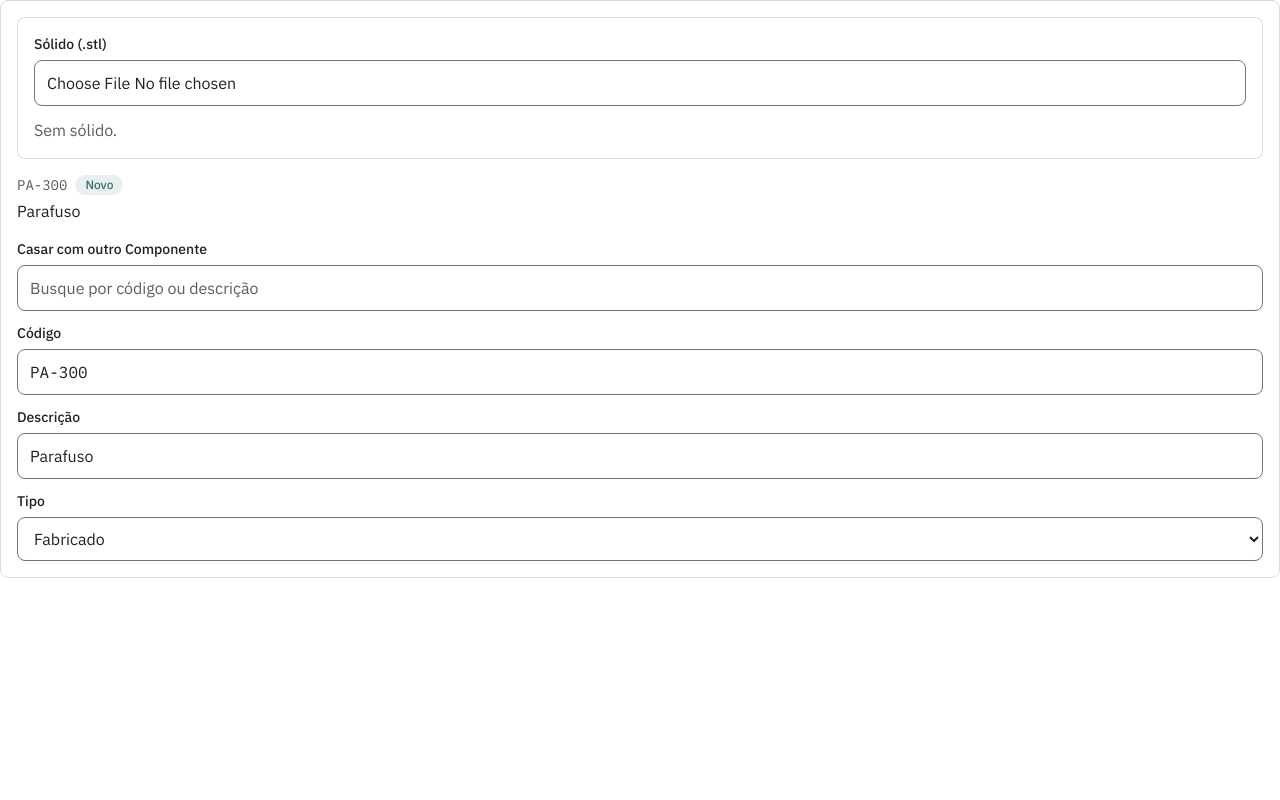
PainelDoComponenteDaImportacao › recusa local do casamento › some na próxima ação: digitar num campo do Componente novo
Focus the dropdown labelled "Casar com outro Componente": {"x": 640, "y": 288} [17,265,1263,311]
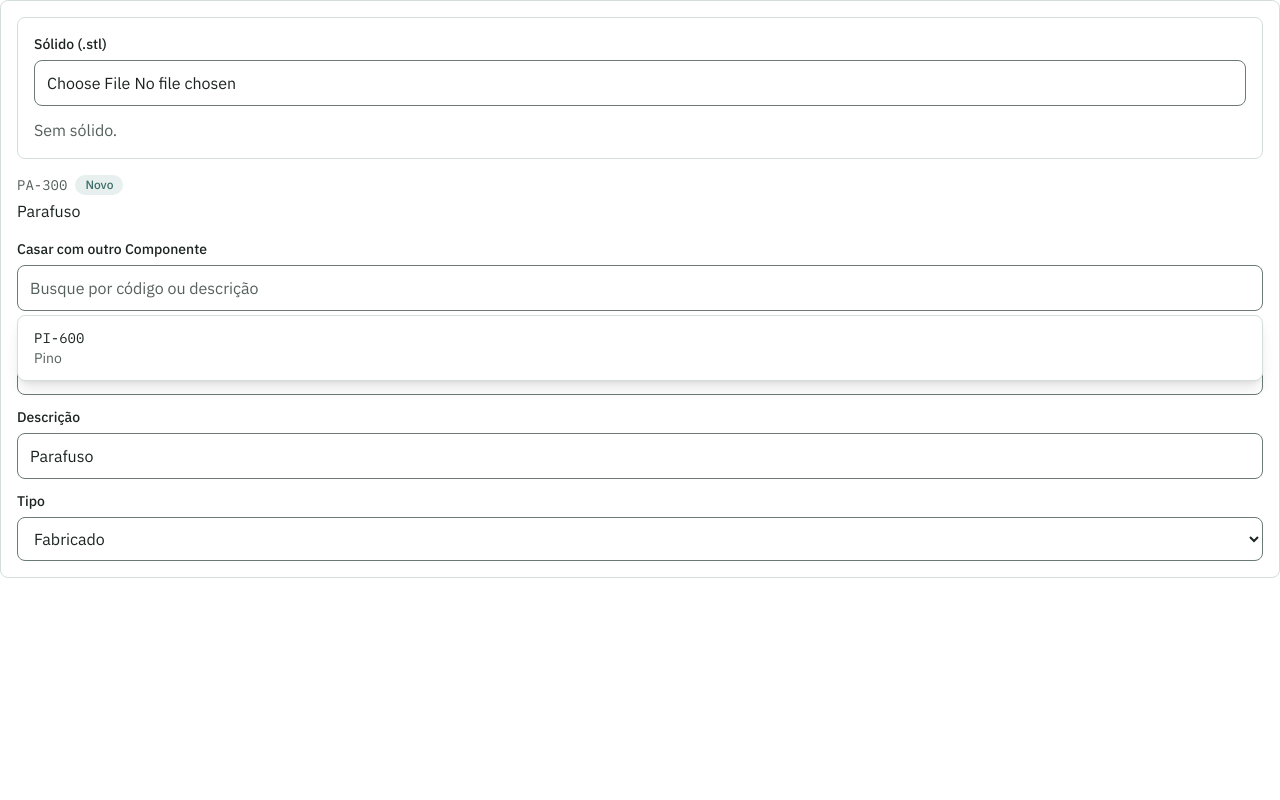
Click the option "PI-600 Pino": {"x": 59, "y": 348} [34,329,84,367]
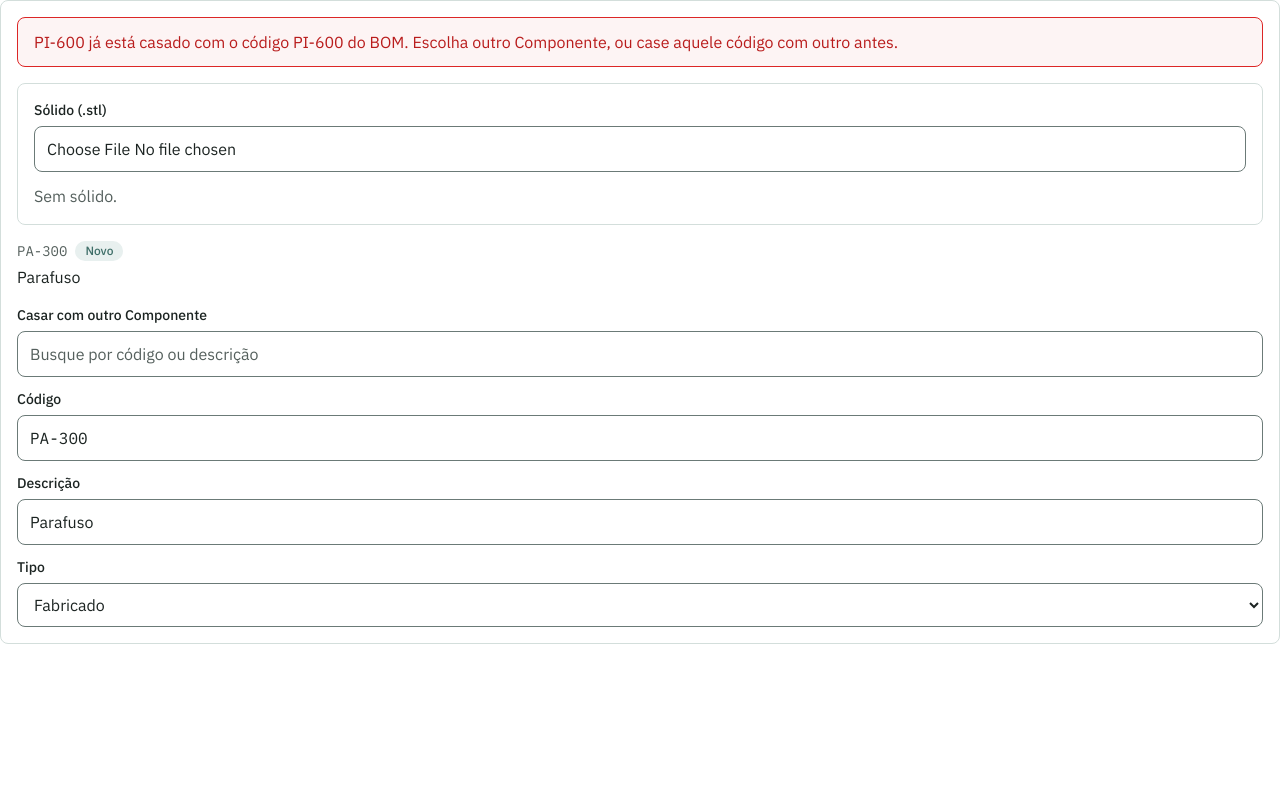
Expected: the message is shown, [17,17,1263,67]
Replace the text in the field labelled "Descrição" with "Parafuso M8": {"x": 640, "y": 522} [17,499,1263,545]
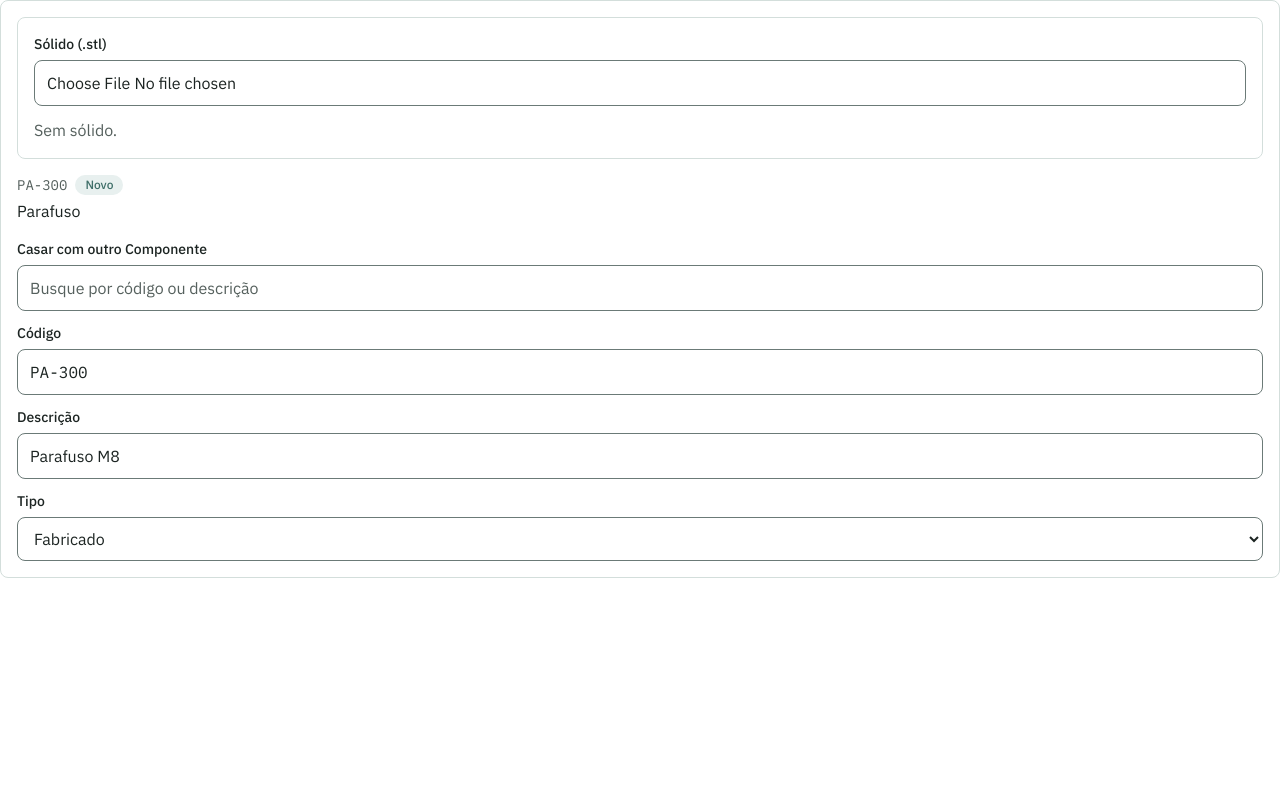
Expected: the message is gone
